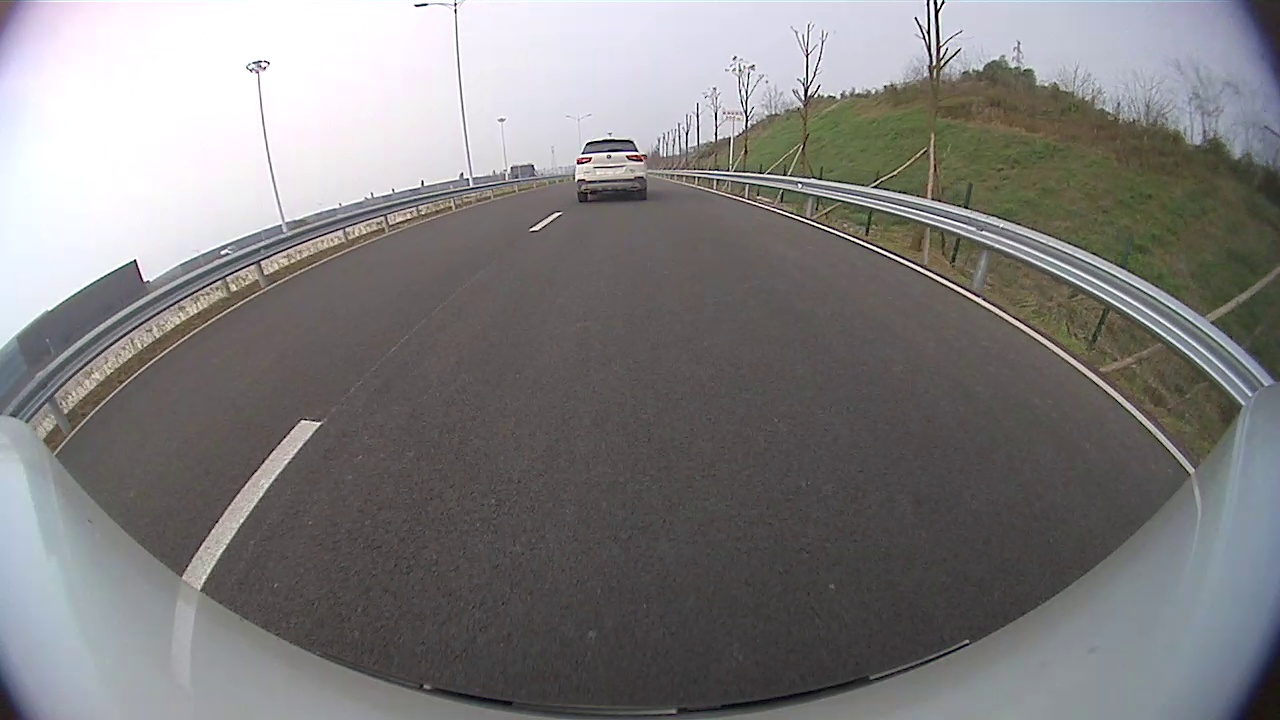car: (573, 136, 650, 206)
